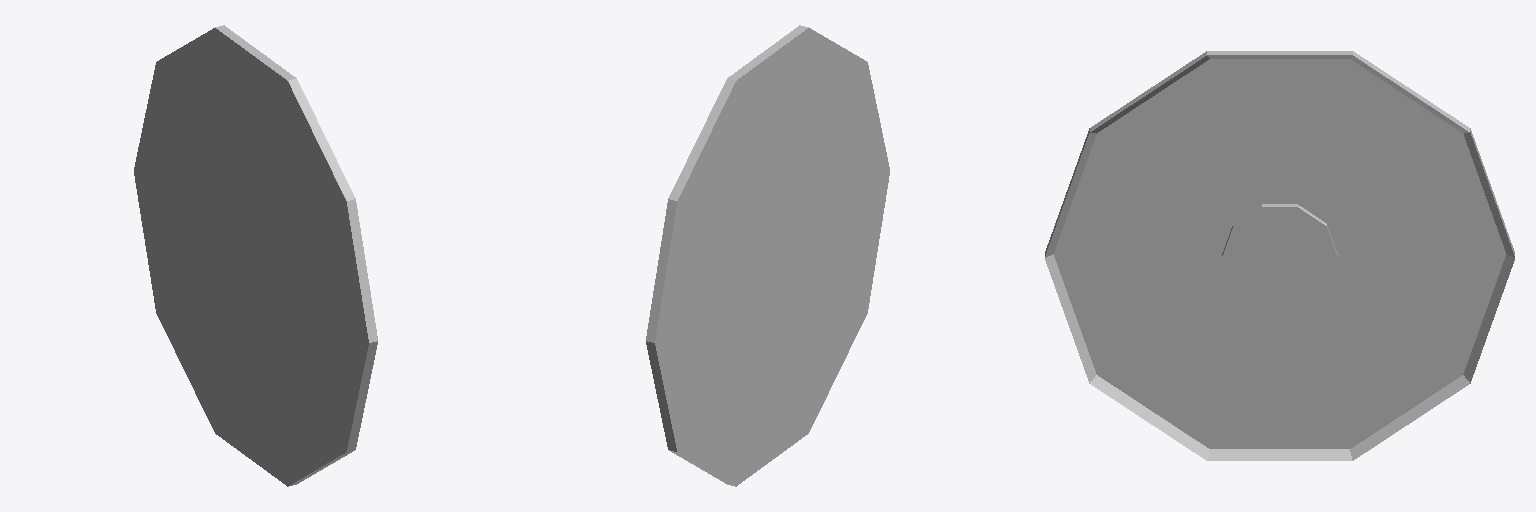
The model's file is target.obj.
3 views of the same model, side by side, from view 1: azimuth 30°, elevation 25°; view 2: azimuth 150°, elevation 25°; view 3: azimuth 270°, elevation 25° (orthographic).
Parts seen in each view (by area): view 1: Circle_Circle.001; view 2: Circle_Circle.001; view 3: Circle_Circle.001.
Part boxes in pixels (bbox=[...]): Circle_Circle.001: bbox=[134, 25, 377, 486]; Circle_Circle.001: bbox=[646, 25, 889, 486]; Circle_Circle.001: bbox=[1045, 51, 1514, 460].
Bounding box in the file's own units: 0.0454 × 1.9 × 2.